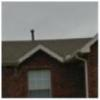chimneys: (30, 28, 36, 42)
